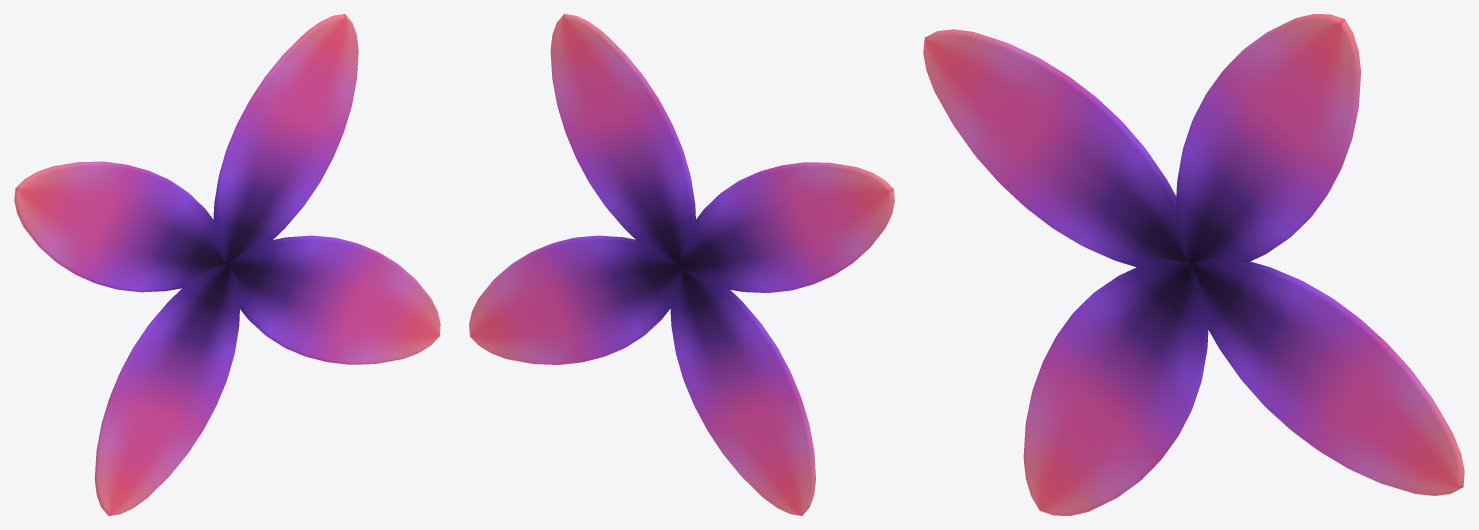
The model's file is flower.glb.
The picture shows the model from 3 angles, left to right: view 1: azimuth 30°, elevation 25°; view 2: azimuth 150°, elevation 25°; view 3: azimuth 330°, elevation 25°; orthographic projection. The views are drawn at different scales.
Parts seen in each view (by area): view 1: curve; view 2: curve; view 3: curve.
Part boxes in pixels (x1,y1,x2,y2): curve: (14,14,440,515); curve: (469,14,894,515); curve: (923,14,1464,515).
Bounding box in the file's own units: 1.77 × 1.78 × 0.03.
Materials: 1 (1 with a texture image).
